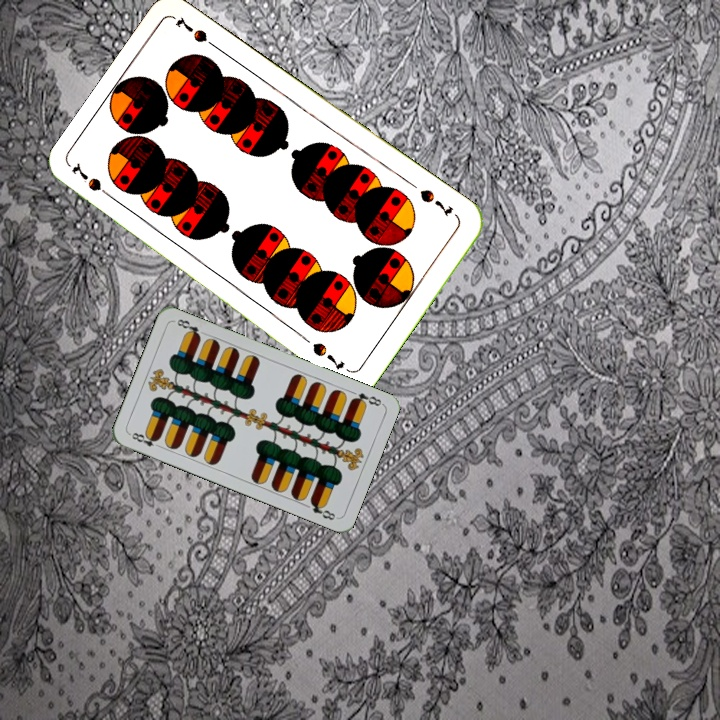E8: (126, 428, 164, 451), (347, 388, 385, 409)
S7: (67, 161, 119, 204), (416, 185, 456, 219)
